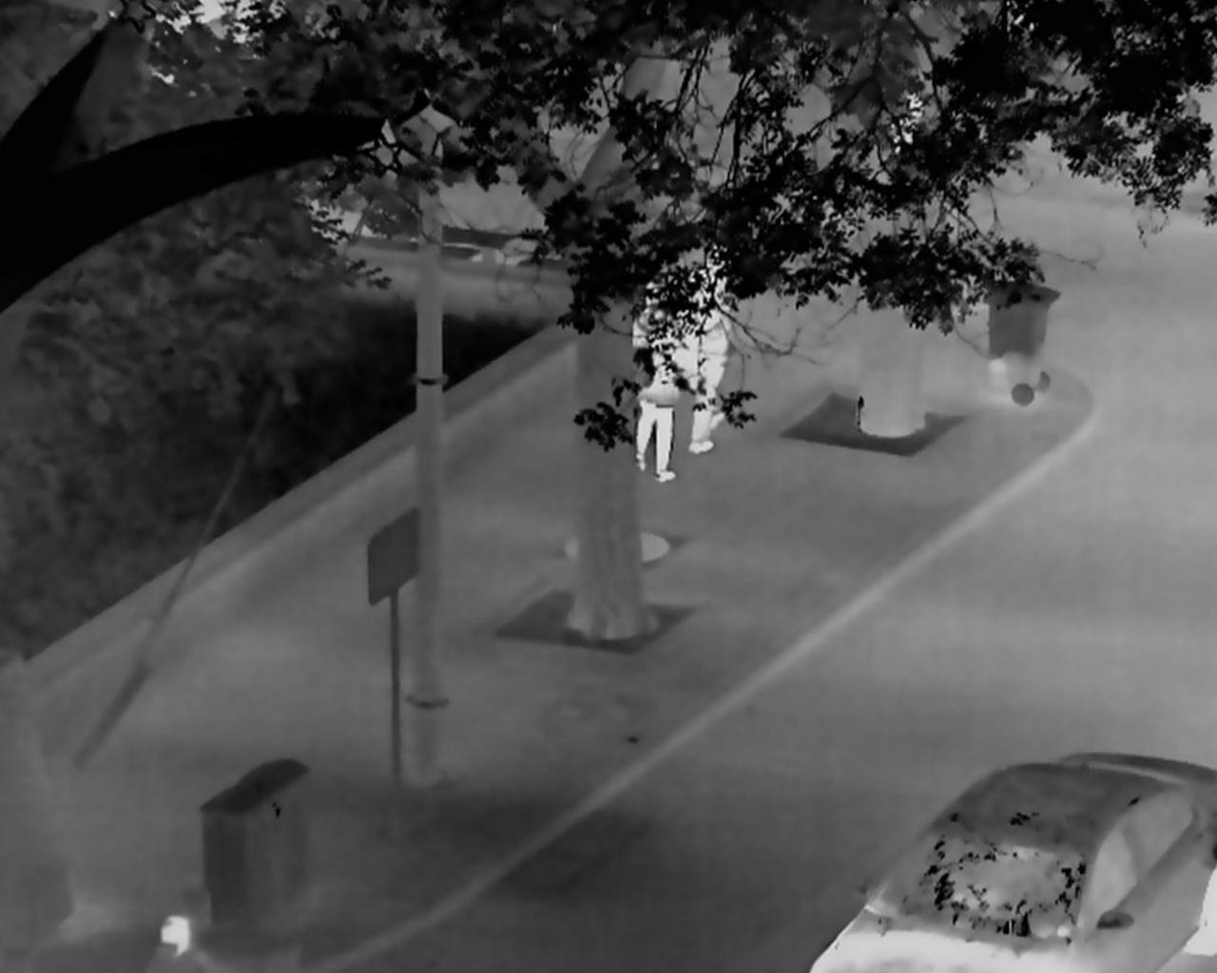person: (633, 279, 694, 476), (686, 256, 733, 455), (143, 913, 215, 973)
